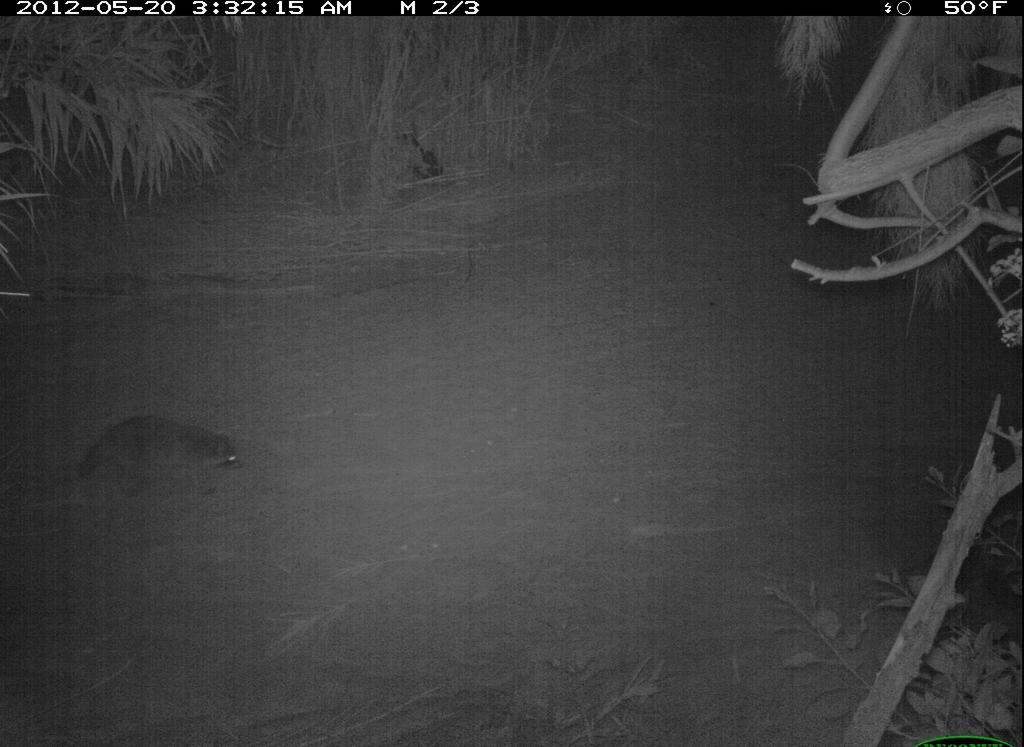raccoon: (68, 408, 258, 511)
